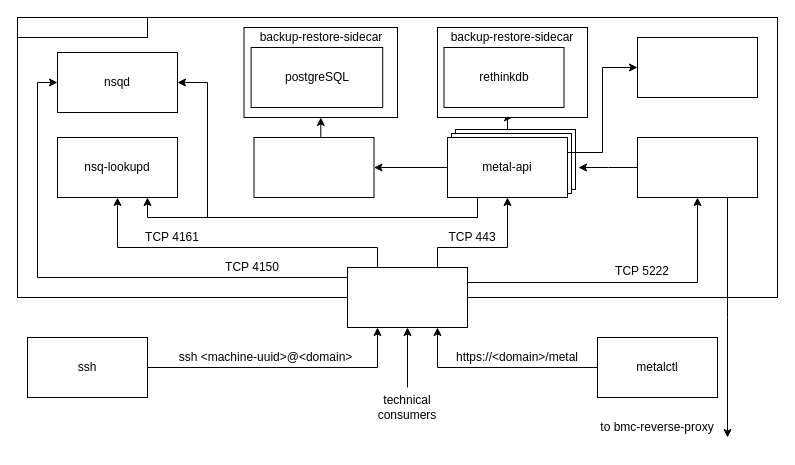
Image size: 795x465. Some labels were removed from this diagram. The shapes that lost their labels are listed below. From the top down, each one's centre as x and y in pixels, then its label:
[82,27]: metal-control-plane
[697,67]: ipam-db
[313,167]: masterdata-api
[697,167]: metal-console
[407,297]: ingress-controller
